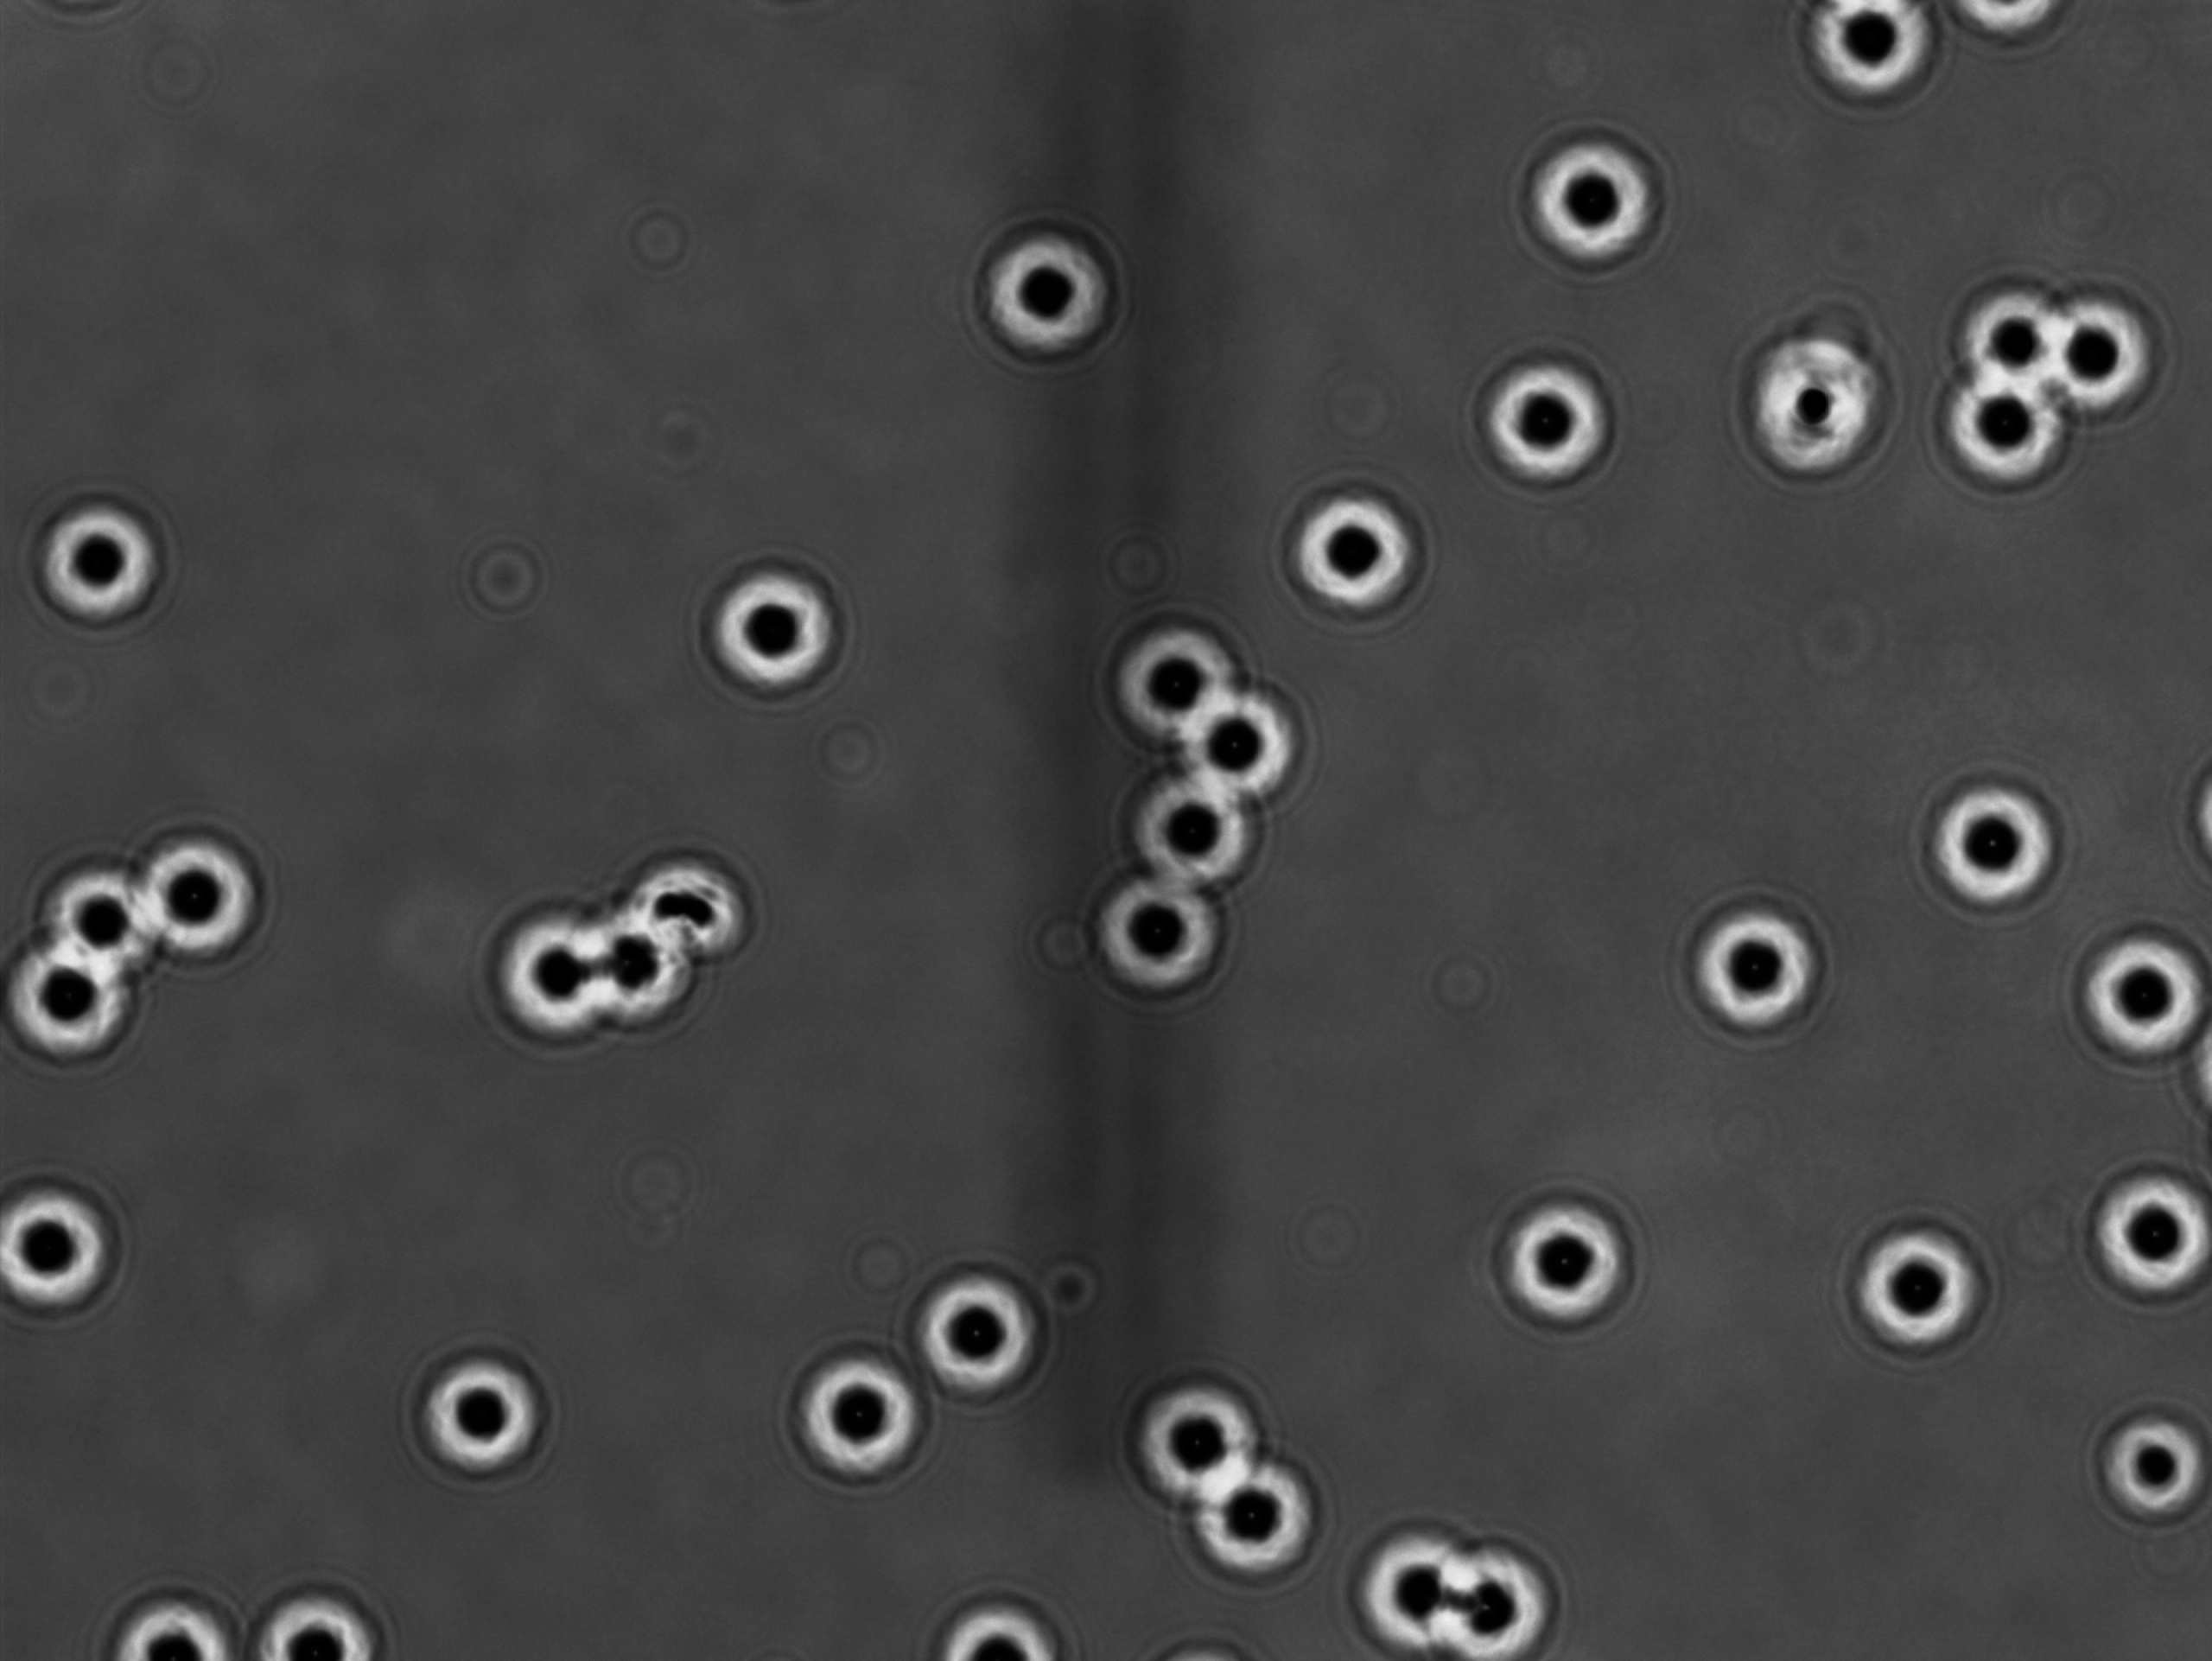depth:-20: (1830, 1202, 1999, 1375), (966, 208, 1137, 377), (686, 551, 857, 717), (1273, 471, 1441, 635), (1915, 764, 2086, 923), (10, 482, 173, 647), (110, 811, 274, 972), (1464, 351, 1631, 506), (1479, 1181, 1642, 1340), (1505, 122, 1664, 277), (782, 1333, 937, 1490), (1069, 862, 1230, 1014), (1343, 1500, 1493, 1661), (1669, 899, 1830, 1047), (2069, 1150, 2212, 1314), (473, 899, 626, 1049), (408, 1338, 558, 1490), (909, 1246, 1061, 1396), (1924, 349, 2079, 492), (1099, 605, 1249, 750), (1122, 1371, 1275, 1511), (1118, 769, 1275, 904), (1943, 253, 2086, 400), (2050, 283, 2189, 433), (2069, 919, 2212, 1063), (2079, 1377, 2212, 1530), (1176, 677, 1321, 815), (37, 857, 169, 1005), (574, 883, 705, 1031), (1185, 1462, 1328, 1595), (232, 1546, 393, 1661), (96, 1567, 244, 1661), (930, 1584, 1068, 1661)
